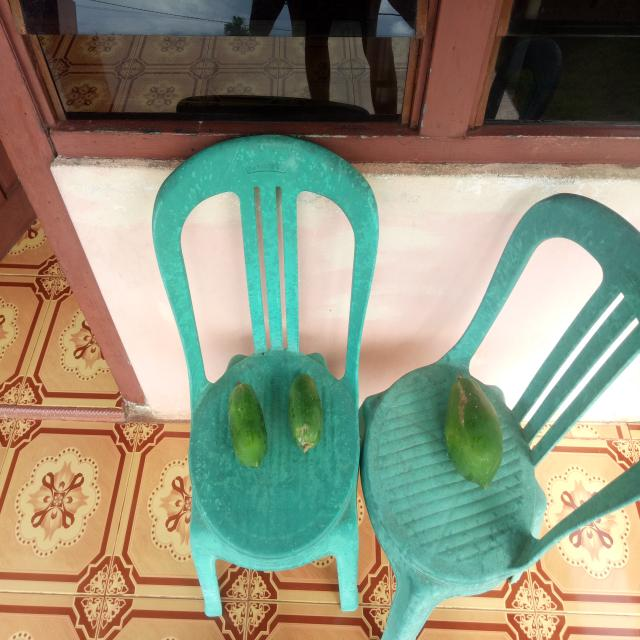Pepaya unrippen: (440, 364, 504, 494), (278, 359, 334, 465), (220, 378, 272, 465)
